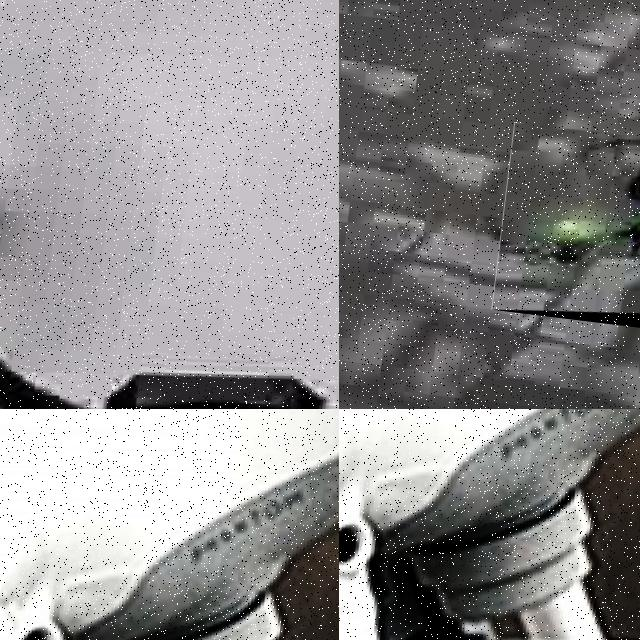0: (0, 0, 339, 409), (491, 121, 640, 352)
drone: (0, 409, 339, 640), (339, 409, 640, 640)
